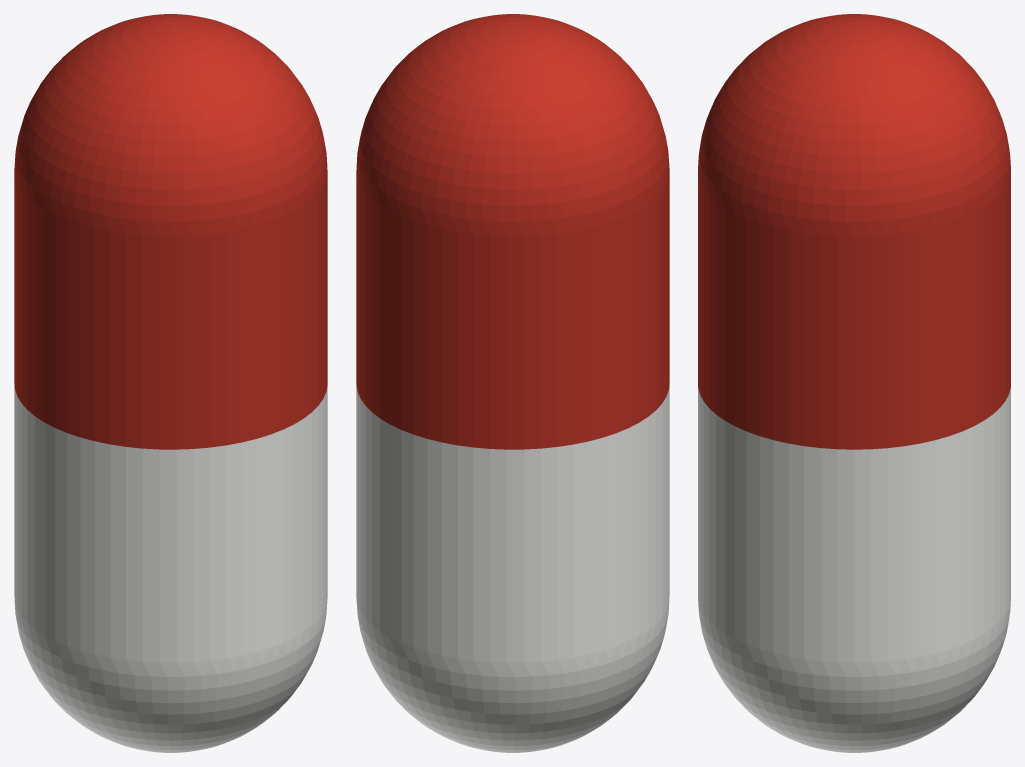
Rendered from pasticca.fbx.
3 views of the same model, side by side, from view 1: azimuth 30°, elevation 25°; view 2: azimuth 150°, elevation 25°; view 3: azimuth 270°, elevation 25° (orthographic).
Parts seen in each view (by area): view 1: MeshBody25, MeshBody24; view 2: MeshBody25, MeshBody24; view 3: MeshBody25, MeshBody24.
Part boxes in pixels (x1,y1,x2,y2): MeshBody25: (14,14,327,449); MeshBody24: (14,383,327,752); MeshBody25: (356,14,669,449); MeshBody24: (356,383,669,752); MeshBody25: (698,14,1010,449); MeshBody24: (698,387,1010,752).
Size of the model in its own units: 20 by 50 by 19.97.
